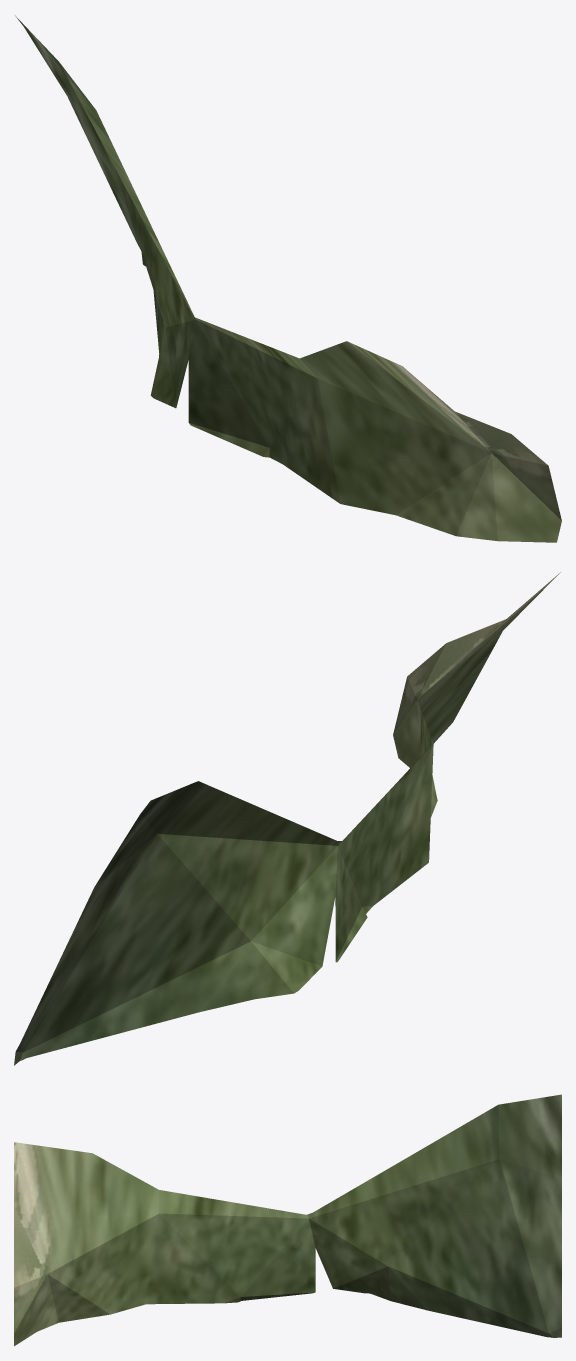
3 renders of one model, top to bottom at view 1: azimuth 30°, elevation 25°; view 2: azimuth 150°, elevation 25°; view 3: azimuth 270°, elevation 25°, orthographic. The views are drawn at different scales.
Size of the model in its own units: 0.6994 by 1.18 by 2.95.
Materials: 1 (1 with a texture image).
